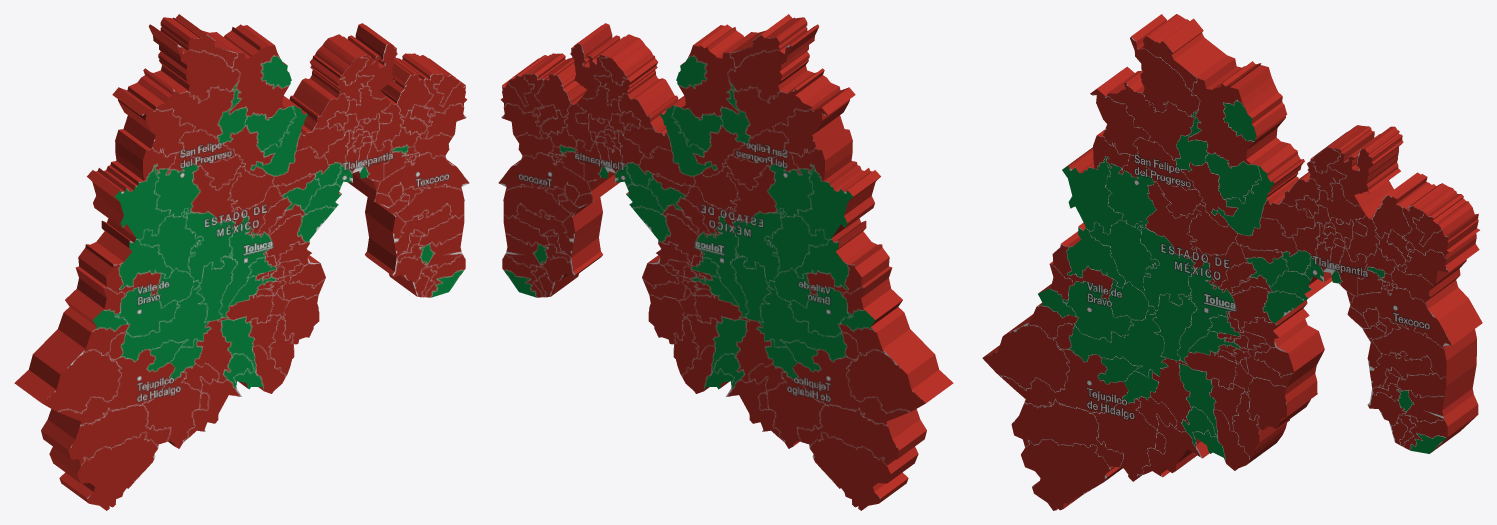
Rendered from mexico.glb.
3 renders of one model, left to right at view 1: azimuth 30°, elevation 25°; view 2: azimuth 150°, elevation 25°; view 3: azimuth 330°, elevation 25°, orthographic. The views are drawn at different scales.
Visible parts, largest first — view 1: Plano; view 2: Plano; view 3: Plano.
Boxes of the visible parts, <box> form: Plano: <box>14,14,469,510</box>; Plano: <box>498,14,953,510</box>; Plano: <box>982,14,1482,510</box>.
Bounding box in the file's own units: 0.9221 × 0.9319 × 0.1035.
Materials: 1 (1 with a texture image).
